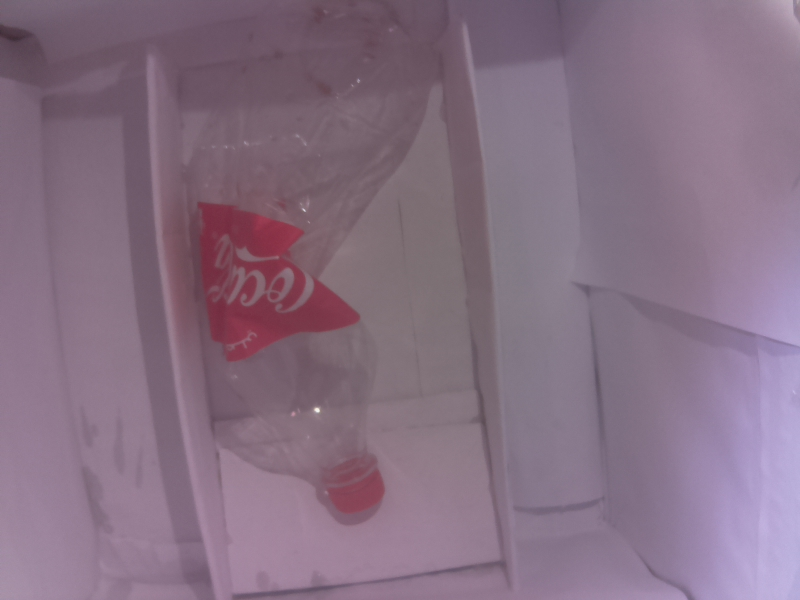botolplastik: (200, 1, 452, 515)
